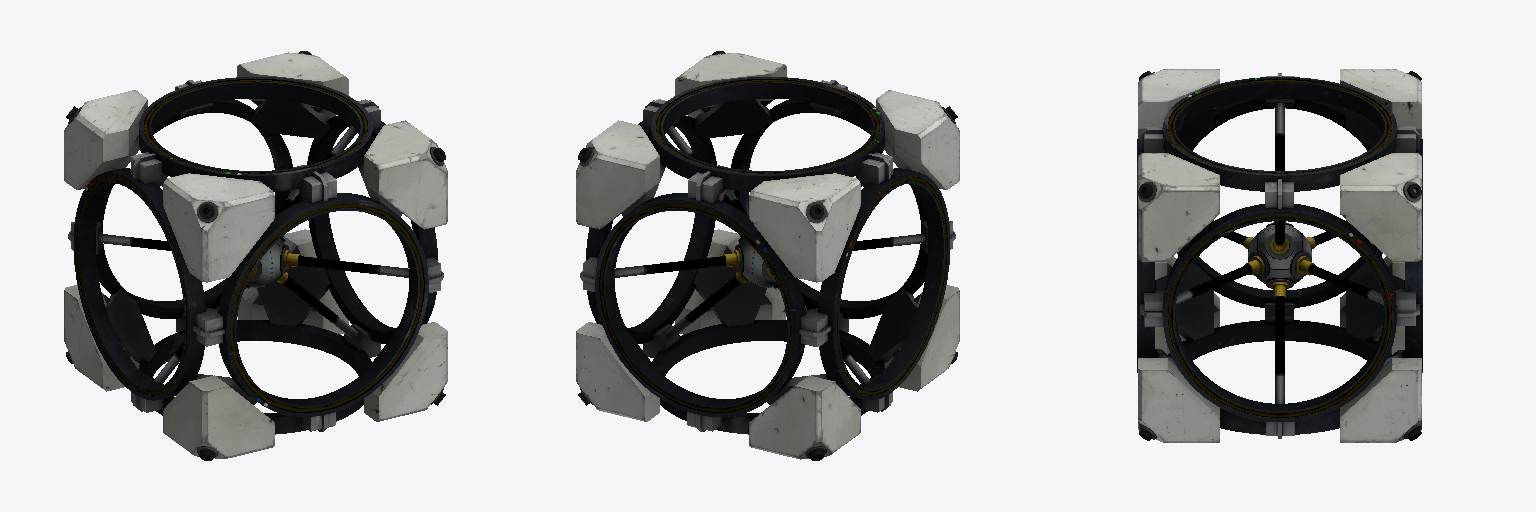
3 renders of one model, left to right at view 1: azimuth 30°, elevation 25°; view 2: azimuth 150°, elevation 25°; view 3: azimuth 270°, elevation 25°, orthographic.
Visible parts, largest first — view 1: g0; view 2: g0; view 3: g0.
Boxes of the visible parts, <box> form: g0: <box>64,51,447,460</box>; g0: <box>576,51,959,460</box>; g0: <box>1137,69,1422,442</box>.
Bounding box in the file's own units: 35.91 × 35.91 × 35.91.
2 materials, 2 textured.